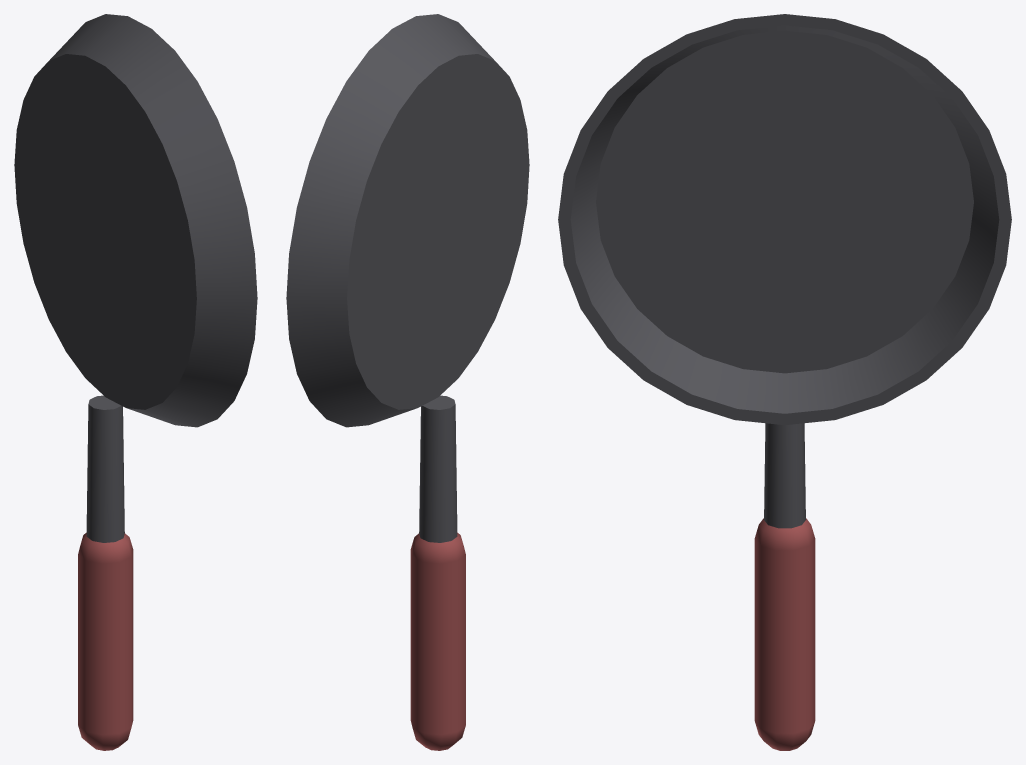
The model's file is SM_Pan.glb.
3 renders of one model, left to right at view 1: azimuth 30°, elevation 25°; view 2: azimuth 150°, elevation 25°; view 3: azimuth 270°, elevation 25°, orthographic. The views are drawn at different scales.
Visible parts, largest first — view 1: SM_Pan; view 2: SM_Pan; view 3: SM_Pan.
Part boxes in pixels (x1,y1,x2,y2): SM_Pan: (14,14,257,750); SM_Pan: (286,14,529,750); SM_Pan: (558,14,1011,750).
Bounding box in the file's own units: 0.0678 × 0.664 × 0.36.
